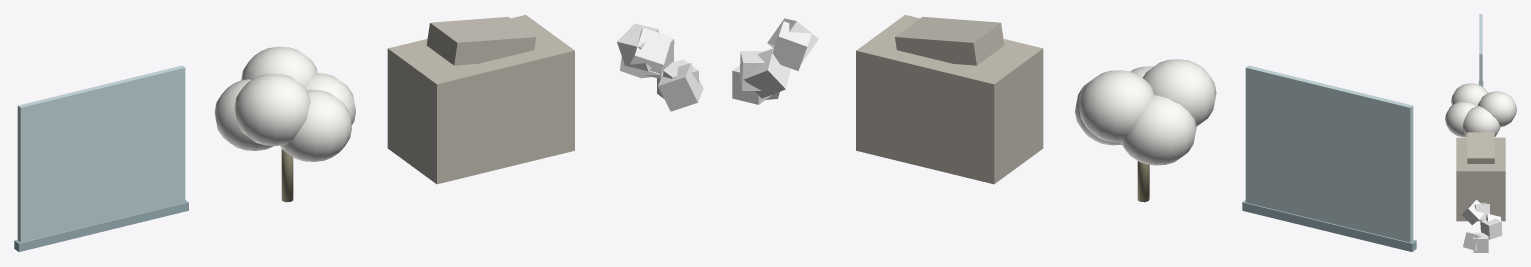
The model's file is products_nonpetro.glb.
The picture shows the model from 3 angles, left to right: view 1: azimuth 30°, elevation 25°; view 2: azimuth 150°, elevation 25°; view 3: azimuth 270°, elevation 25°; orthographic projection. The views are drawn at different scales.
Parts seen in each view (by area): view 1: glass_pane, cement_bag, cotton_boll_4, cement_bag_top, cotton_boll_5, cotton_boll_2, glass_pane_edge, cotton_boll_3, salt_crystal_4, salt_crystal_3, cotton_boll_1, salt_crystal_6 (+2 smaller); view 2: glass_pane, cement_bag, cement_bag_top, cotton_boll_2, cotton_boll_3, cotton_boll_4, glass_pane_edge, salt_crystal_2, salt_crystal_6, salt_crystal_5, salt_crystal_1, salt_crystal_3 (+2 smaller); view 3: cement_bag, cement_bag_top, cotton_boll_2, cotton_boll_1, cotton_boll_5, cotton_boll_4, salt_crystal_5, glass_pane, salt_crystal_3, salt_crystal_1, salt_crystal_4, salt_crystal_6 (+1 smaller).
Part boxes in pixels (bbox=[...]): glass_pane: bbox=[17, 65, 185, 242]; cement_bag: bbox=[387, 15, 574, 184]; cotton_boll_4: bbox=[234, 73, 310, 145]; cement_bag_top: bbox=[426, 17, 536, 65]; cotton_boll_5: bbox=[280, 89, 351, 161]; cotton_boll_2: bbox=[241, 46, 317, 85]; glass_pane_edge: bbox=[14, 200, 188, 251]; cotton_boll_3: bbox=[214, 79, 273, 150]; salt_crystal_4: bbox=[658, 63, 703, 111]; salt_crystal_3: bbox=[630, 27, 672, 73]; cotton_boll_1: bbox=[304, 73, 355, 125]; salt_crystal_6: bbox=[617, 23, 659, 71]; glass_pane: bbox=[1245, 65, 1413, 242]; cement_bag: bbox=[856, 15, 1043, 184]; cement_bag_top: bbox=[895, 16, 1004, 65]; cotton_boll_2: bbox=[1079, 70, 1153, 142]; cotton_boll_3: bbox=[1120, 95, 1196, 165]; cotton_boll_4: bbox=[1143, 59, 1216, 126]; glass_pane_edge: bbox=[1242, 200, 1416, 251]; salt_crystal_2: bbox=[744, 48, 790, 98]; salt_crystal_6: bbox=[772, 21, 812, 71]; salt_crystal_5: bbox=[739, 51, 765, 90]; salt_crystal_1: bbox=[732, 65, 771, 104]; salt_crystal_3: bbox=[767, 18, 818, 63]; cement_bag: bbox=[1456, 137, 1505, 221]; cement_bag_top: bbox=[1467, 132, 1494, 163]; cotton_boll_2: bbox=[1478, 91, 1516, 127]; cotton_boll_1: bbox=[1463, 106, 1500, 136]; cotton_boll_5: bbox=[1445, 102, 1476, 137]; cotton_boll_4: bbox=[1451, 83, 1487, 106]; salt_crystal_5: bbox=[1480, 218, 1502, 239]; glass_pane: bbox=[1479, 14, 1482, 86]; salt_crystal_3: bbox=[1461, 199, 1484, 225]; salt_crystal_1: bbox=[1473, 232, 1488, 252]; salt_crystal_4: bbox=[1463, 232, 1481, 250]; salt_crystal_6: bbox=[1470, 202, 1489, 219].
Bounding box in the file's own units: 2.56 × 0.57 × 0.4692.
